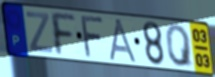8: (142, 20, 166, 67)
A: (107, 18, 140, 65)
F: (48, 10, 77, 58), (81, 15, 106, 60)
Q: (164, 24, 195, 69)
Z: (25, 11, 54, 56)
